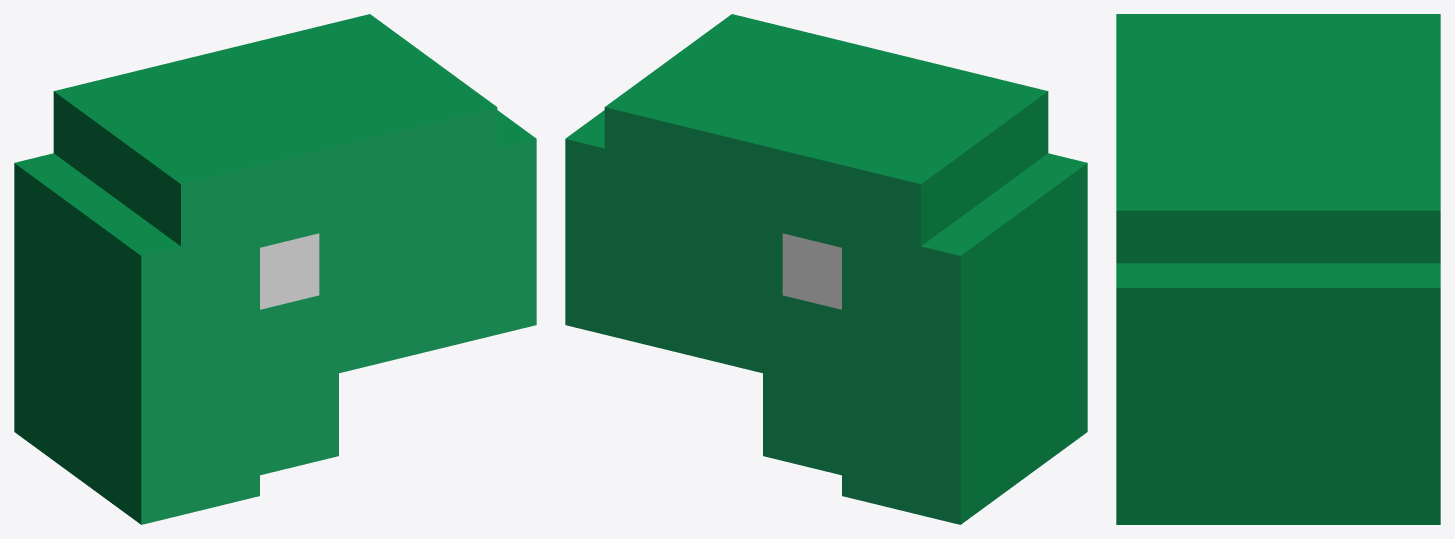
File: dino-head.fbx
3 views of the same model, side by side, from view 1: azimuth 30°, elevation 25°; view 2: azimuth 150°, elevation 25°; view 3: azimuth 270°, elevation 25° (orthographic). The views are drawn at different scales.
Parts seen in each view (by area): view 1: polySurface11; view 2: polySurface11; view 3: polySurface11.
Boxes of the visible parts, box(x1,y1,x2,y2) form: polySurface11: box(14, 14, 536, 524); polySurface11: box(565, 14, 1087, 524); polySurface11: box(1116, 14, 1440, 524).
Bounding box in the file's own units: 0.4 × 0.32 × 0.2229.
Materials: 1 (1 with a texture image).
